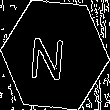N_N: (35, 28, 75, 82)
